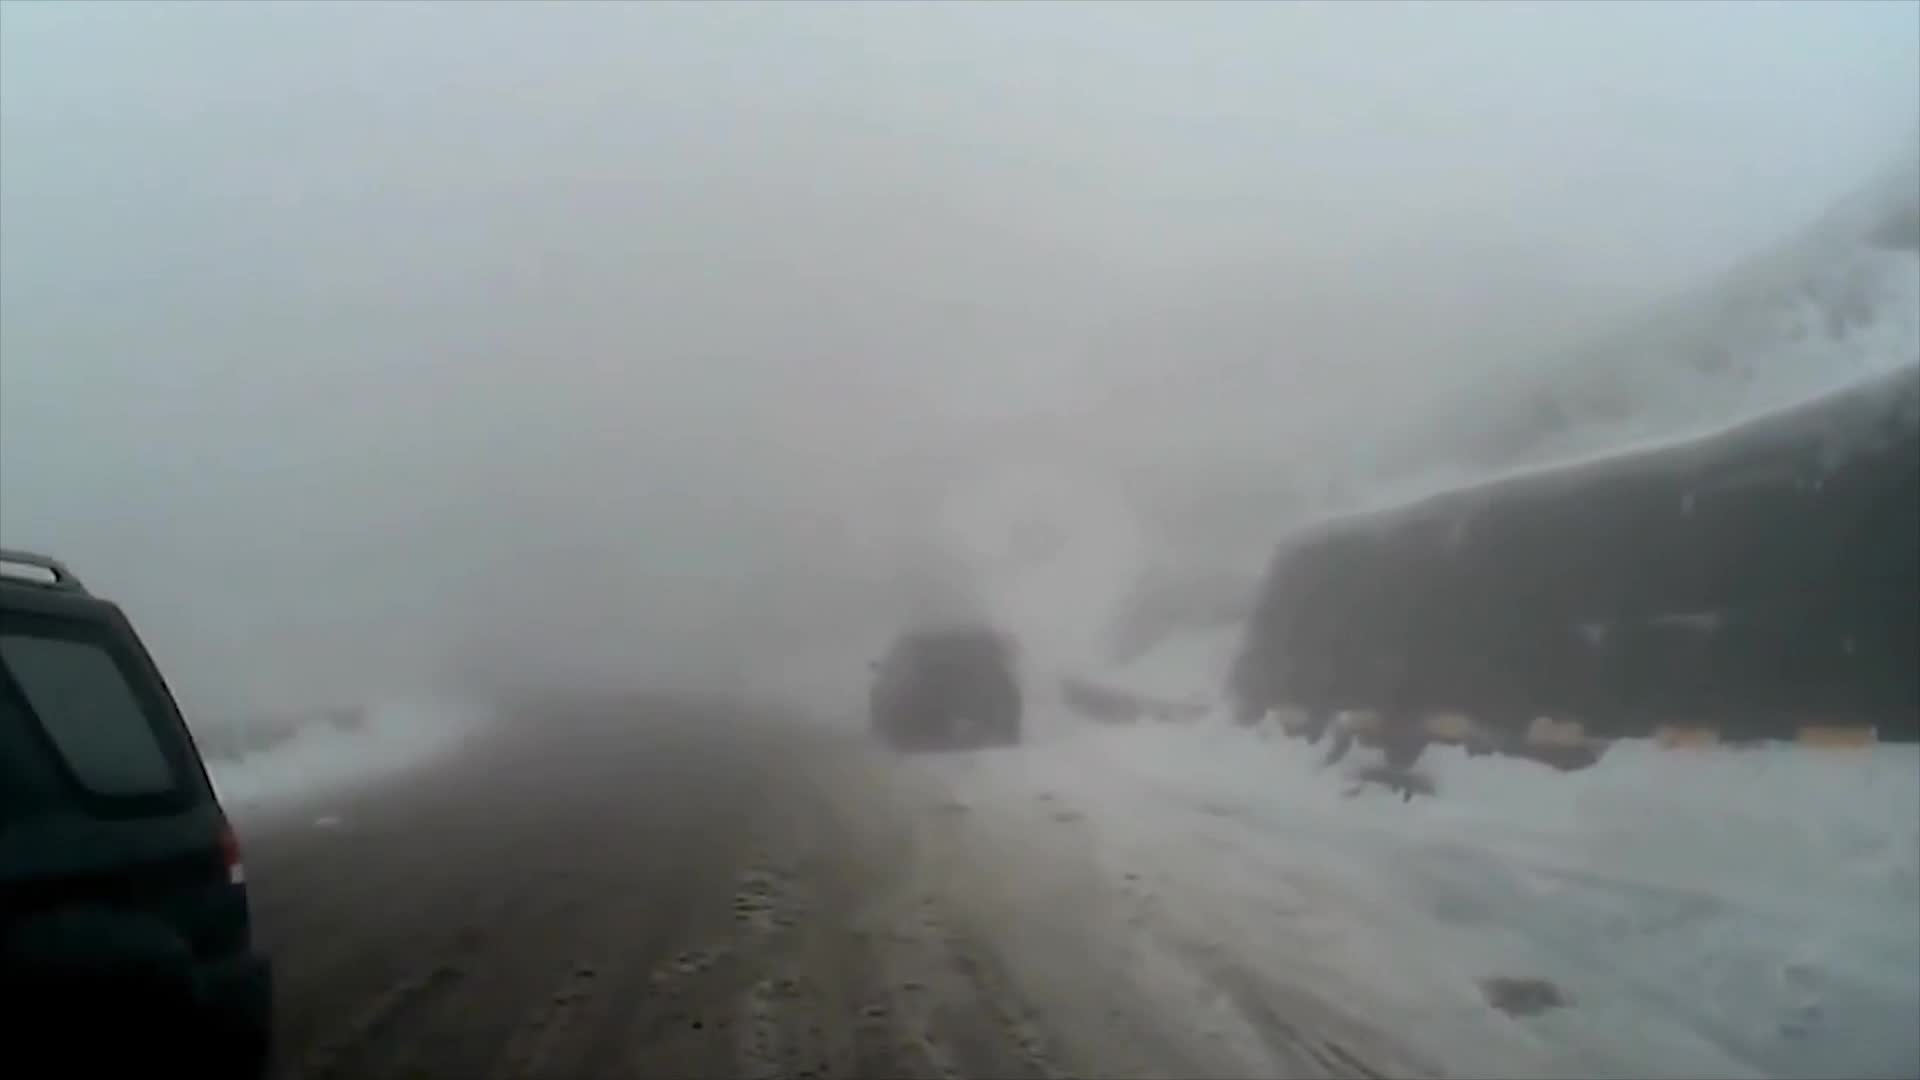vehicle: (0, 549, 266, 1073), (865, 618, 1022, 752)
